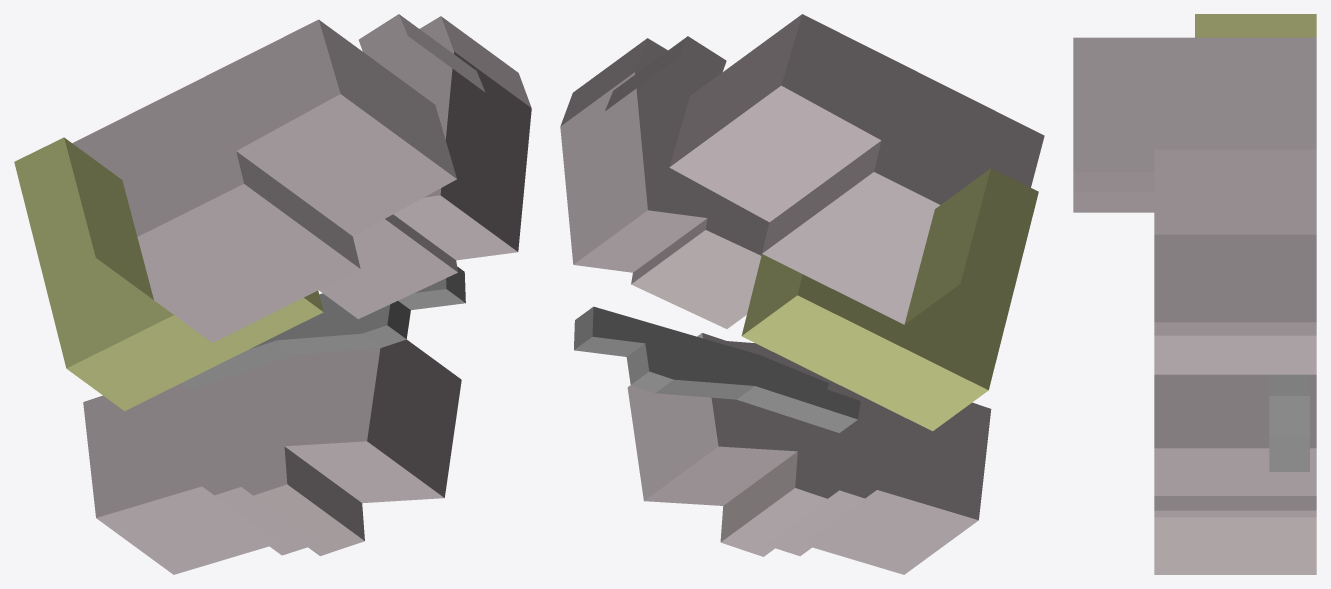
The picture shows the model from 3 angles, left to right: view 1: azimuth 30°, elevation 25°; view 2: azimuth 150°, elevation 25°; view 3: azimuth 270°, elevation 25°; orthographic projection. The views are drawn at different scales.
Parts seen in each view (by area): view 1: 0_3_1_0_3_3_3_0_3; view 2: 0_3_1_0_3_3_3_0_3; view 3: 0_3_1_0_3_3_3_0_3.
Part boxes in pixels (box(x1,y1,x2,y2)): 0_3_1_0_3_3_3_0_3: box(14, 14, 531, 574); 0_3_1_0_3_3_3_0_3: box(560, 14, 1044, 574); 0_3_1_0_3_3_3_0_3: box(1073, 14, 1316, 574).
Bounding box in the file's own units: 39.22 × 39.3 × 18.
